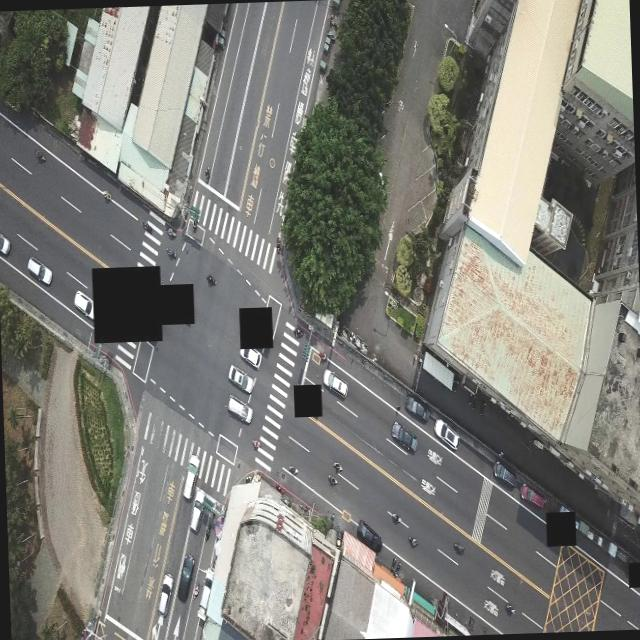bike: (447, 534, 469, 562), (32, 140, 48, 165), (324, 471, 340, 492), (98, 186, 114, 204), (200, 165, 214, 184), (142, 218, 156, 236), (332, 458, 344, 478), (288, 459, 298, 479), (317, 348, 328, 366), (163, 245, 177, 259), (291, 324, 303, 340), (166, 226, 178, 242), (250, 436, 263, 450), (205, 271, 216, 287), (504, 598, 514, 614), (388, 510, 399, 524), (191, 218, 200, 235), (407, 534, 417, 547), (275, 234, 280, 253)
car: (390, 418, 417, 454), (189, 486, 207, 540), (225, 392, 253, 426), (179, 448, 197, 500), (176, 554, 194, 604), (356, 517, 382, 551), (156, 572, 176, 614), (26, 254, 52, 286), (434, 415, 458, 449), (226, 364, 252, 394), (322, 368, 347, 397), (405, 393, 428, 423), (74, 288, 94, 320), (492, 459, 514, 488), (520, 481, 542, 509), (240, 346, 262, 369), (0, 229, 11, 256)
